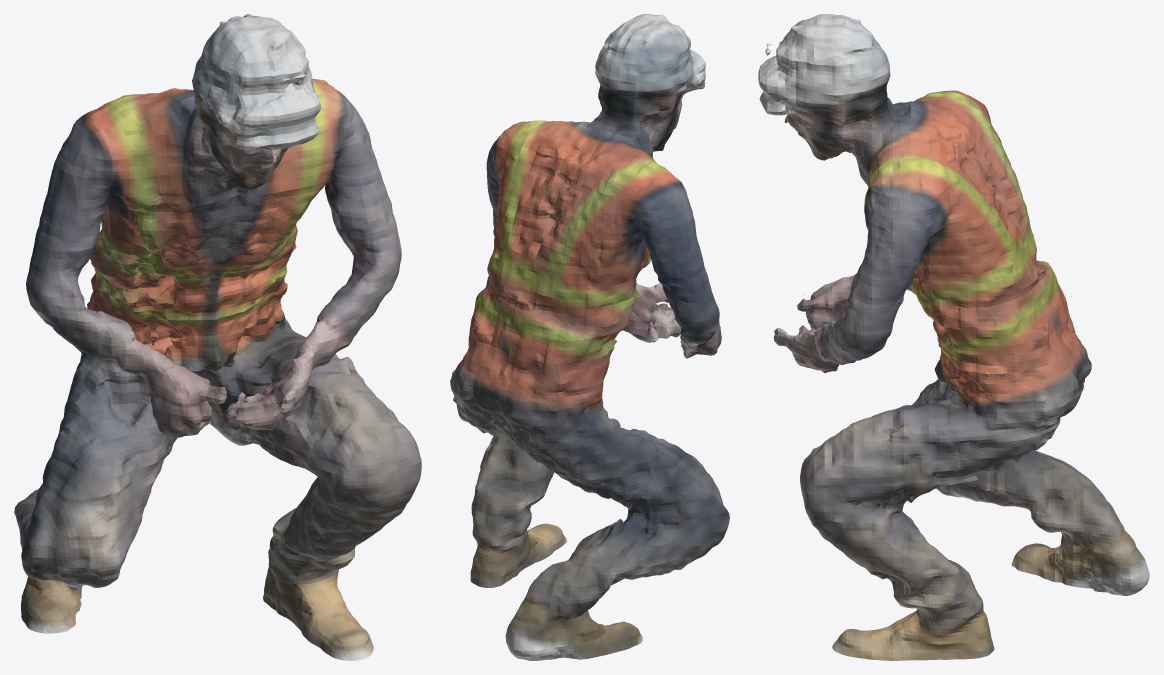
File: standup_5.glb
3 views of the same model, side by side, from view 1: azimuth 30°, elevation 25°; view 2: azimuth 150°, elevation 25°; view 3: azimuth 270°, elevation 25° (orthographic). The views are drawn at different scales.
Parts seen in each view (by area): view 1: world; view 2: world; view 3: world.
Part boxes in pixels (x1,y1,x2,y2): world: (14, 14, 421, 660); world: (450, 14, 729, 660); world: (758, 14, 1149, 660).
Bounding box in the file's own units: 0.7277 × 1.4 × 0.8537.
